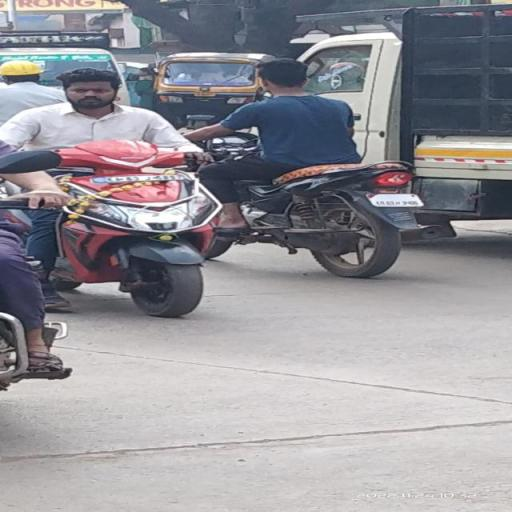bike: (4, 67, 244, 329)
numberplate: (91, 174, 191, 183)
withouthelmet: (62, 70, 118, 110)
